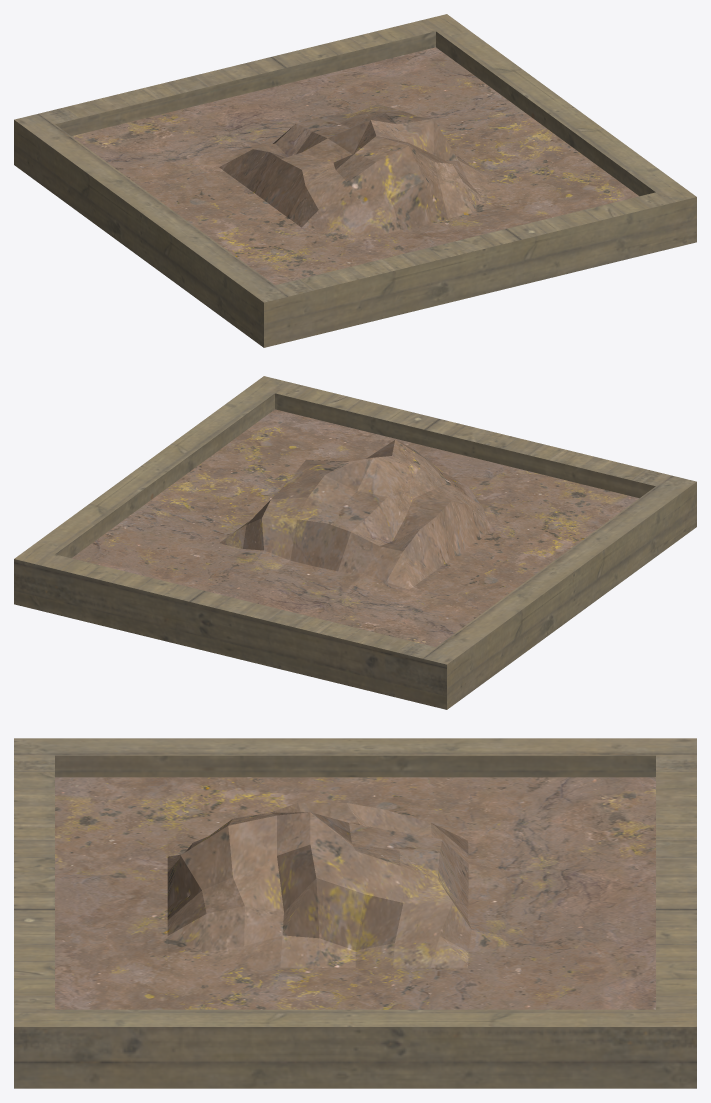
File: SM_Mountain.fbx
The picture shows the model from 3 angles, top to bottom: view 1: azimuth 30°, elevation 25°; view 2: azimuth 150°, elevation 25°; view 3: azimuth 270°, elevation 25°; orthographic projection. The views are drawn at different scales.
Visible parts, largest first — view 1: pCube1; view 2: pCube1; view 3: pCube1.
Boxes of the visible parts, bbox=[...] form: pCube1: bbox=[14, 14, 696, 347]; pCube1: bbox=[14, 376, 696, 709]; pCube1: bbox=[14, 738, 696, 1088].
Bounding box in the file's own units: 10 × 2.12 × 10.
